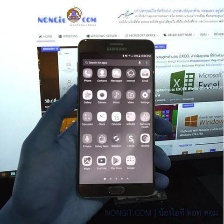phone: (72, 35, 158, 200)
